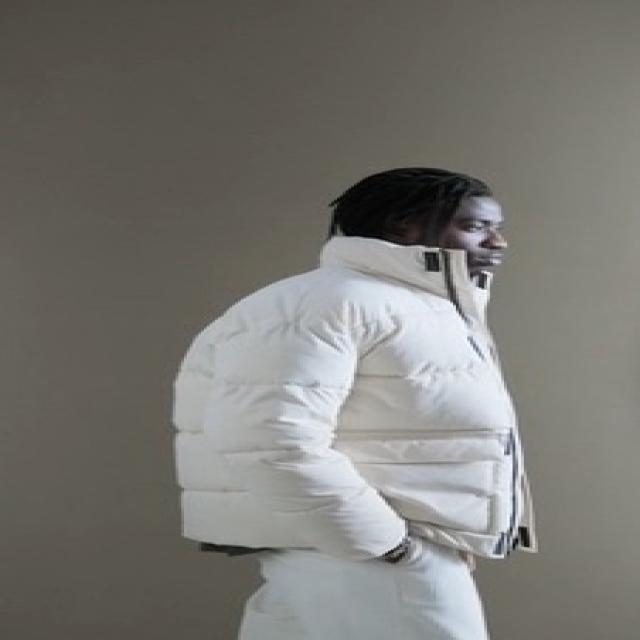Jacket_Wearer: (133, 239, 573, 555)
Person: (122, 167, 575, 640)
